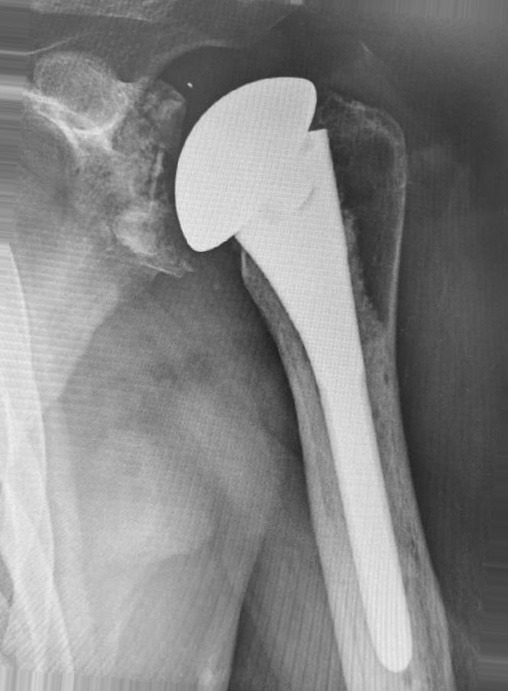Shoulder - Anotomical - Stryker: (162, 72, 351, 264)
